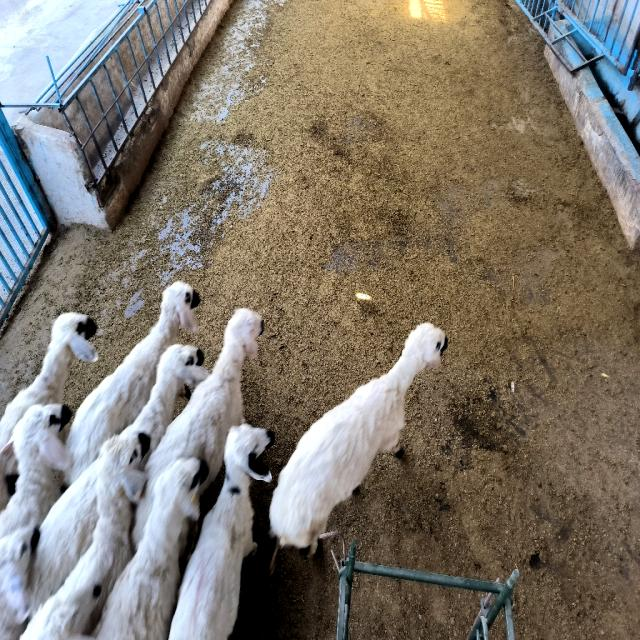sheep: (270, 323, 446, 553), (132, 308, 264, 544), (65, 282, 200, 484), (21, 432, 150, 638), (169, 423, 274, 638), (96, 458, 208, 639), (0, 403, 71, 539), (122, 345, 208, 452)
